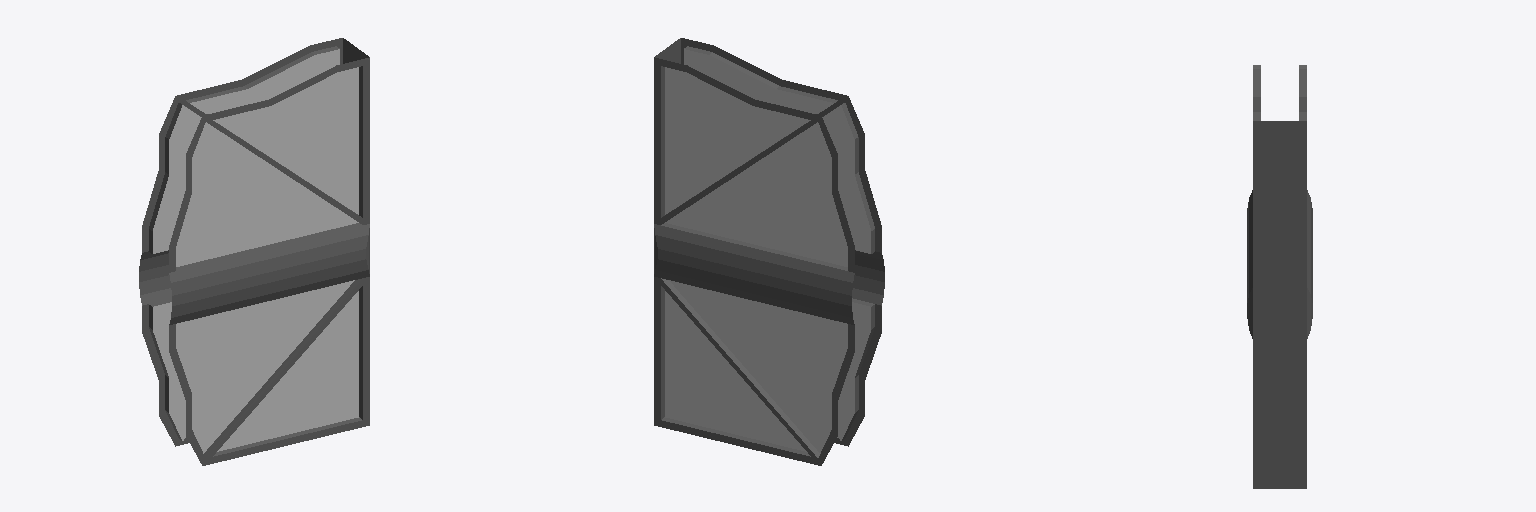
File: MilShip1_BulkHeadDoor.obj
3 renders of one model, left to right at view 1: azimuth 30°, elevation 25°; view 2: azimuth 150°, elevation 25°; view 3: azimuth 270°, elevation 25°, orthographic.
Visible parts, largest first — view 1: Blukhead_Door_Cube.014; view 2: Blukhead_Door_Cube.014; view 3: Blukhead_Door_Cube.014.
Boxes of the visible parts, x1=… form: Blukhead_Door_Cube.014: x1=139, y1=38, x2=369, y2=465; Blukhead_Door_Cube.014: x1=654, y1=38, x2=884, y2=465; Blukhead_Door_Cube.014: x1=1247, y1=65, x2=1312, y2=488.
Size of the model in its own units: 1.2 by 2.1 by 0.34.